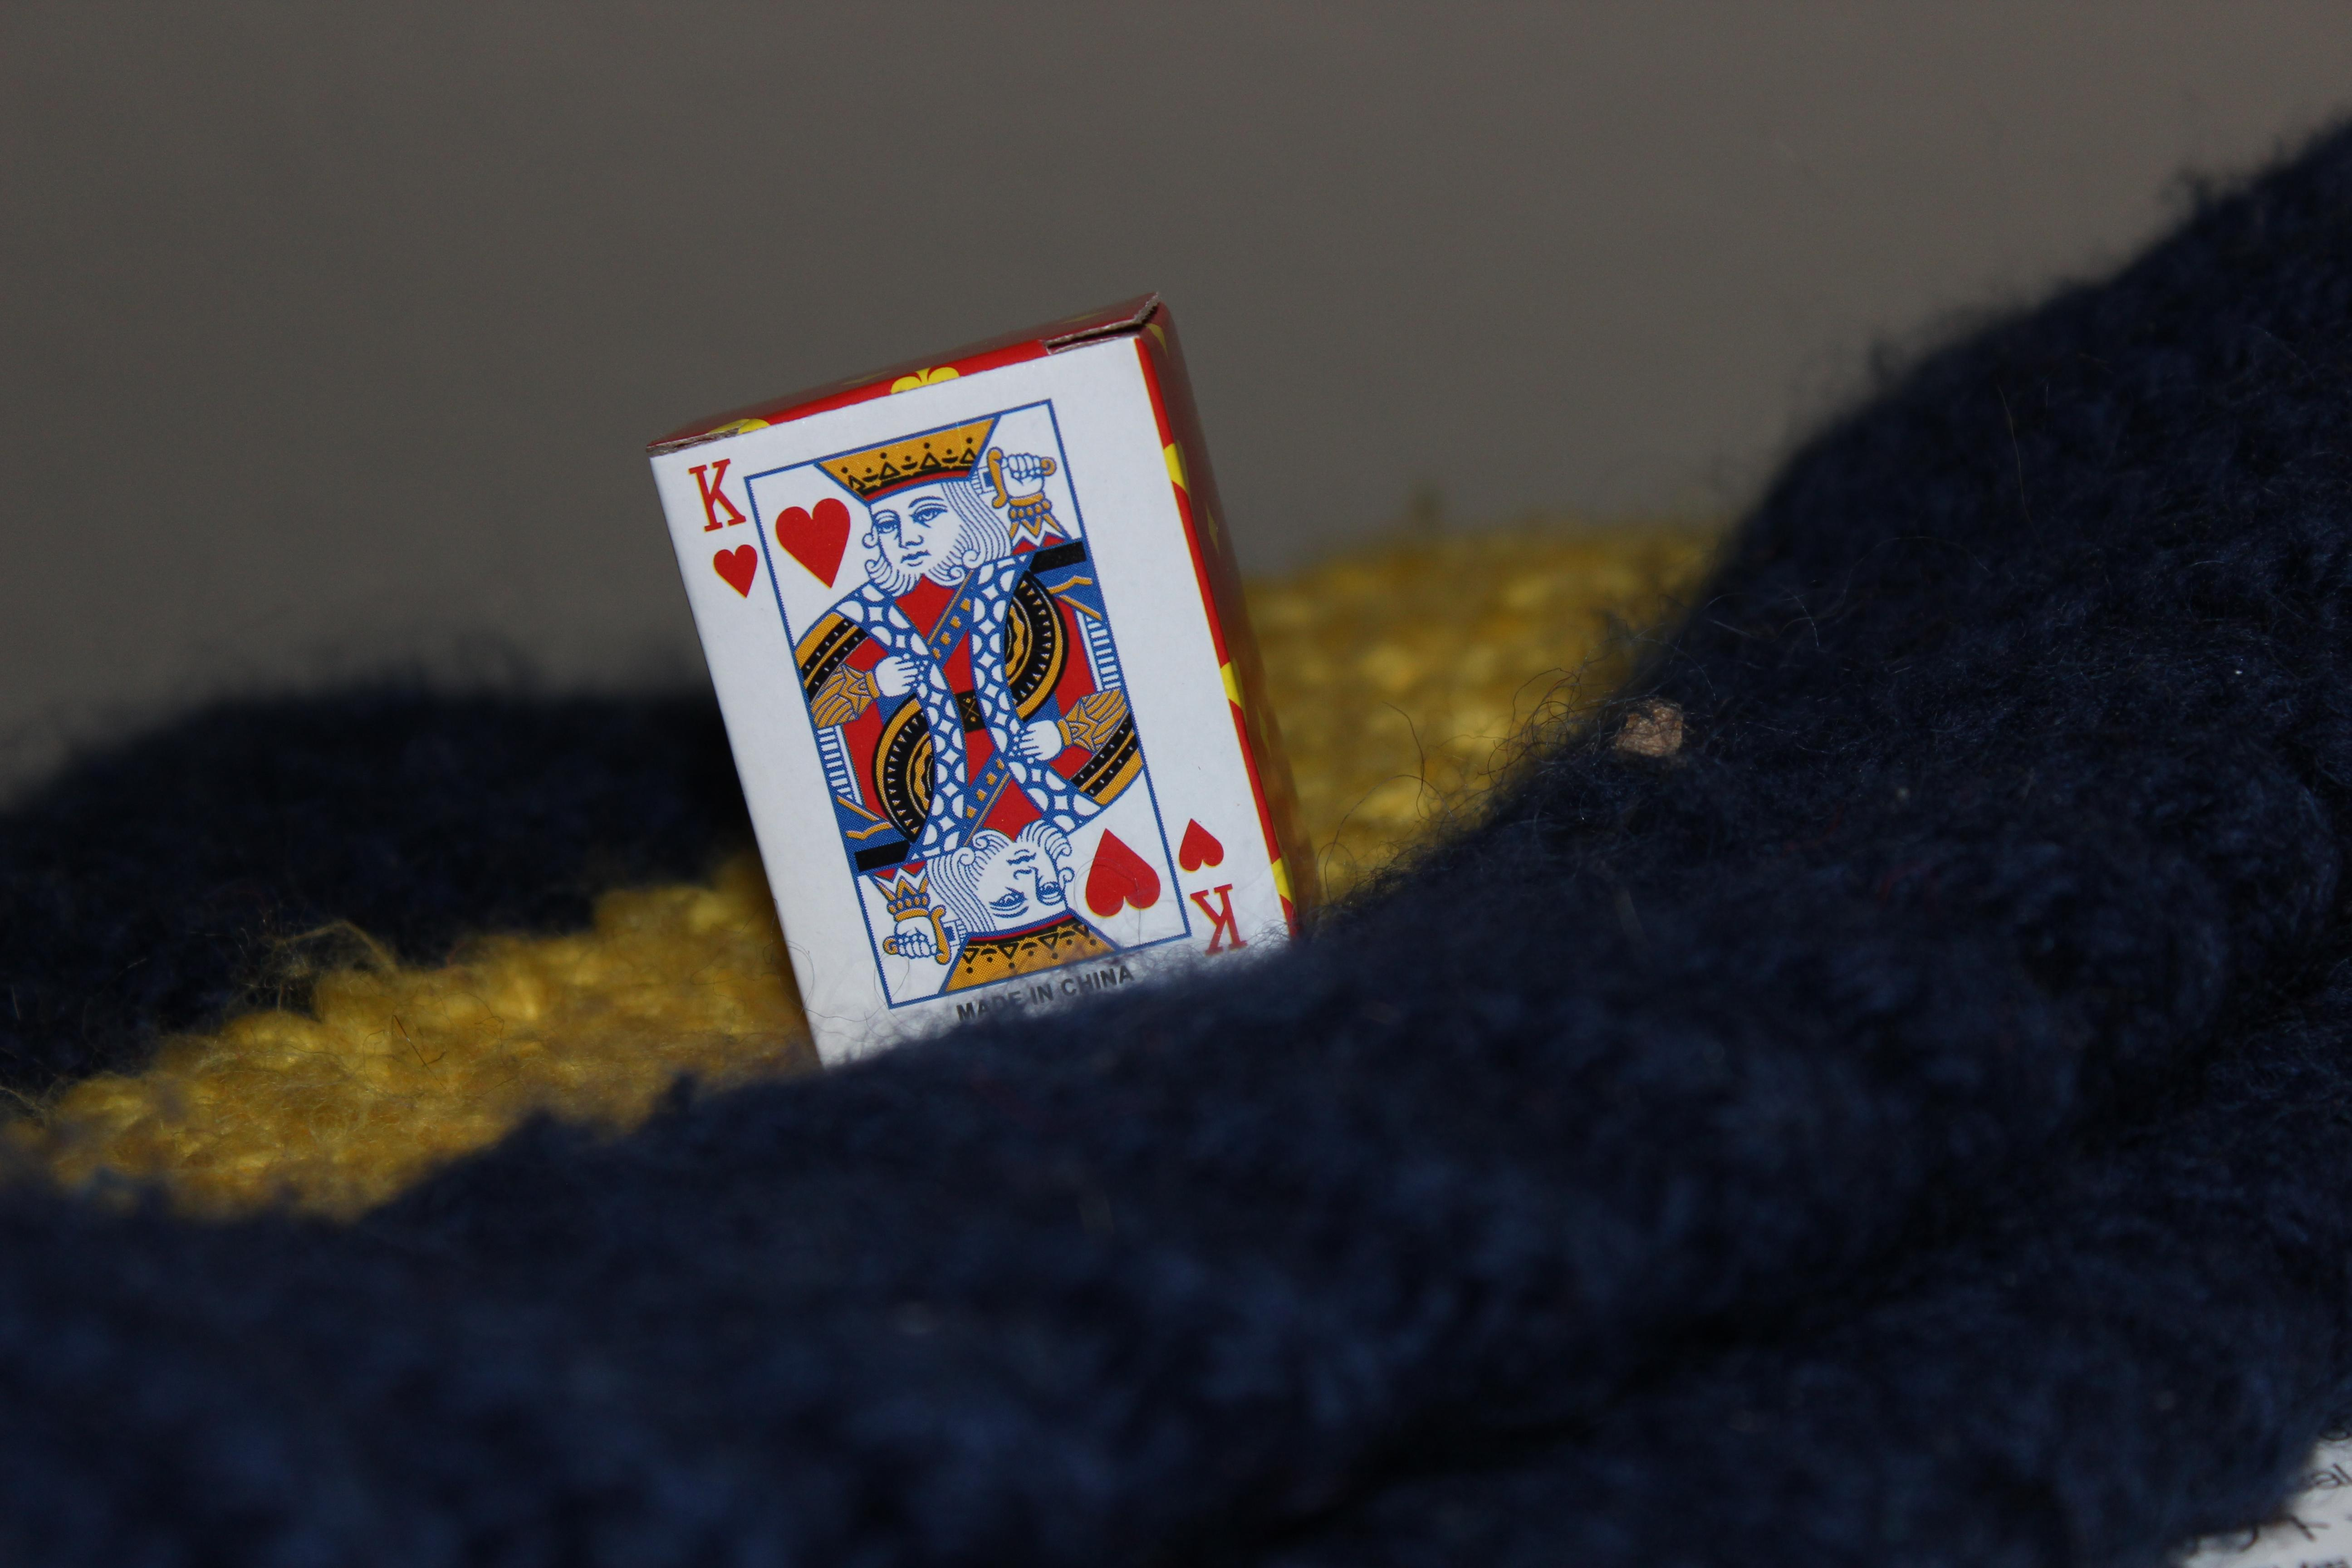miniCards: (623, 278, 1344, 1080)
